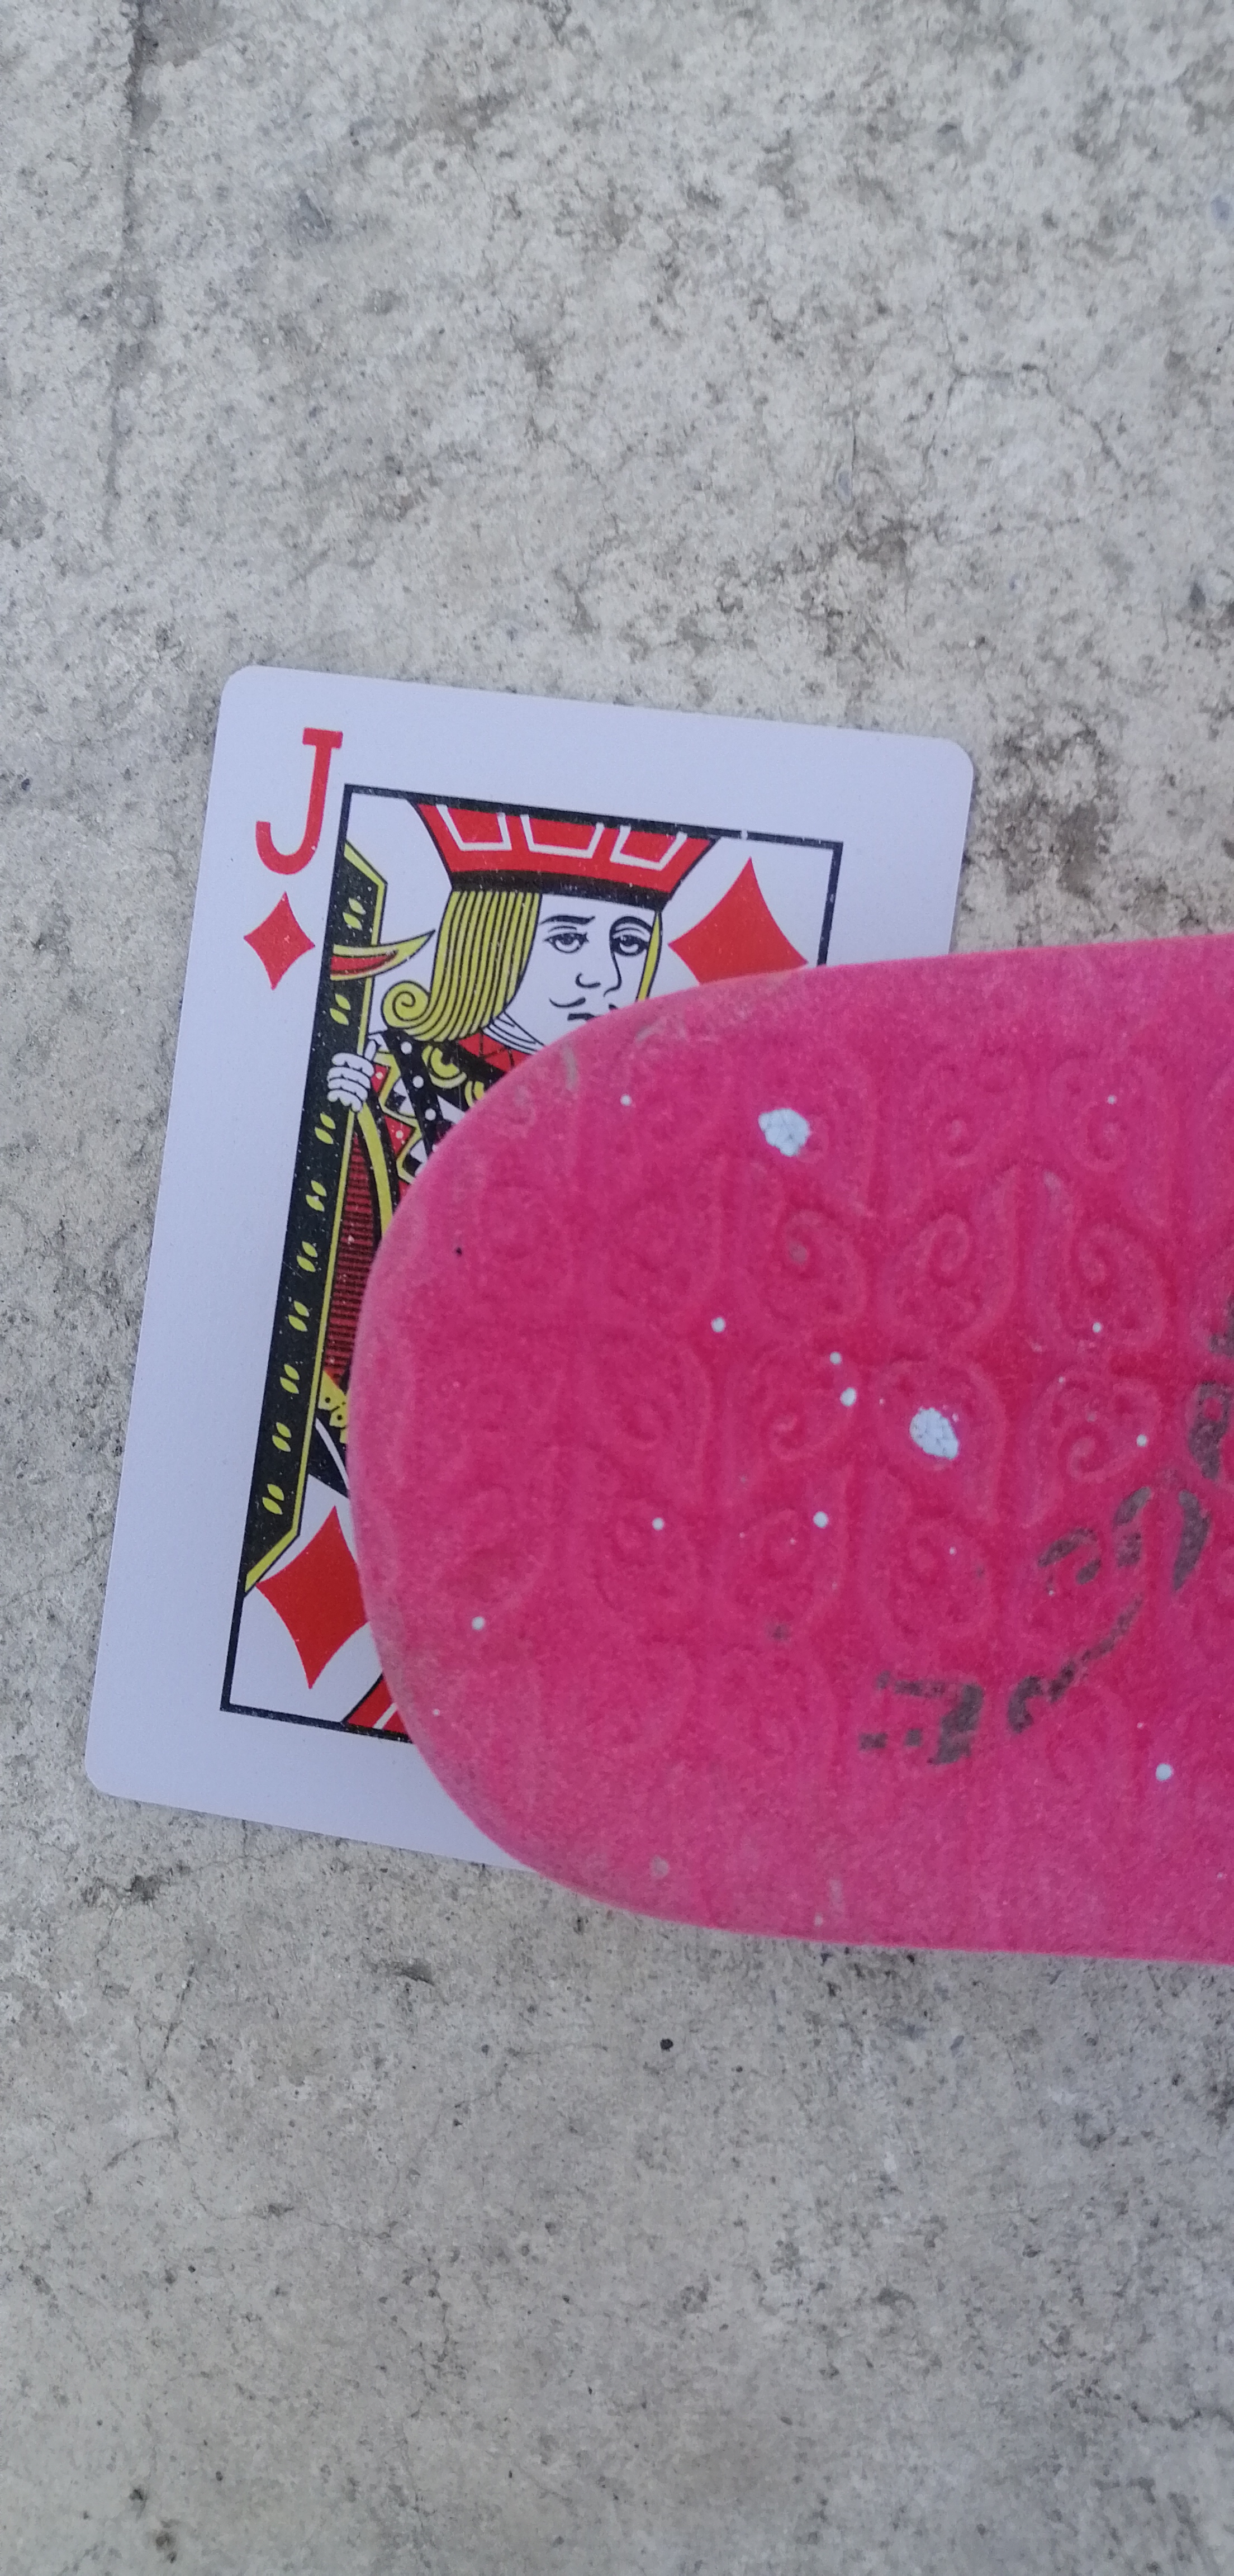jack: (56, 641, 945, 1848)
